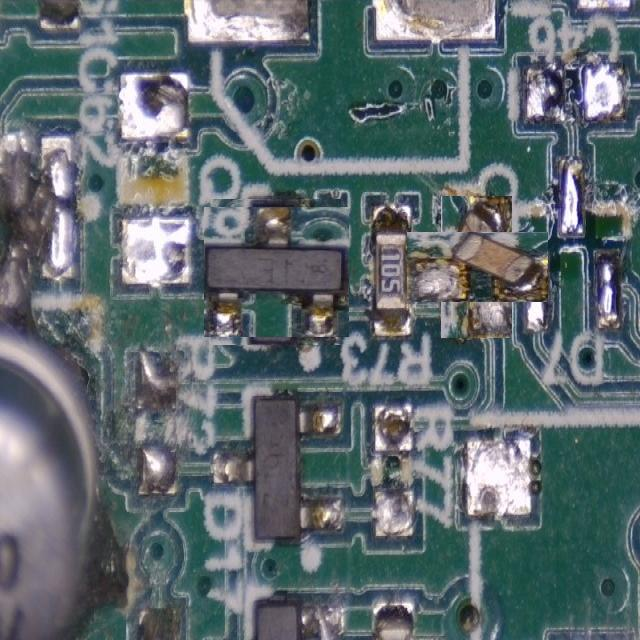Incorrect_installation: (203, 207, 349, 337), (406, 232, 548, 302)
